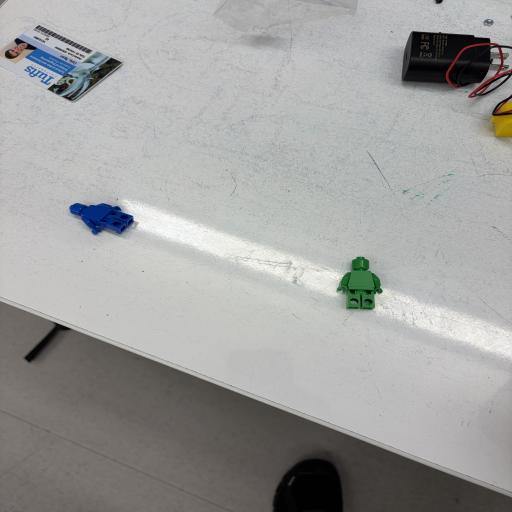Blue-Lego: (70, 203, 134, 234)
Green-Lego: (337, 257, 382, 310)
